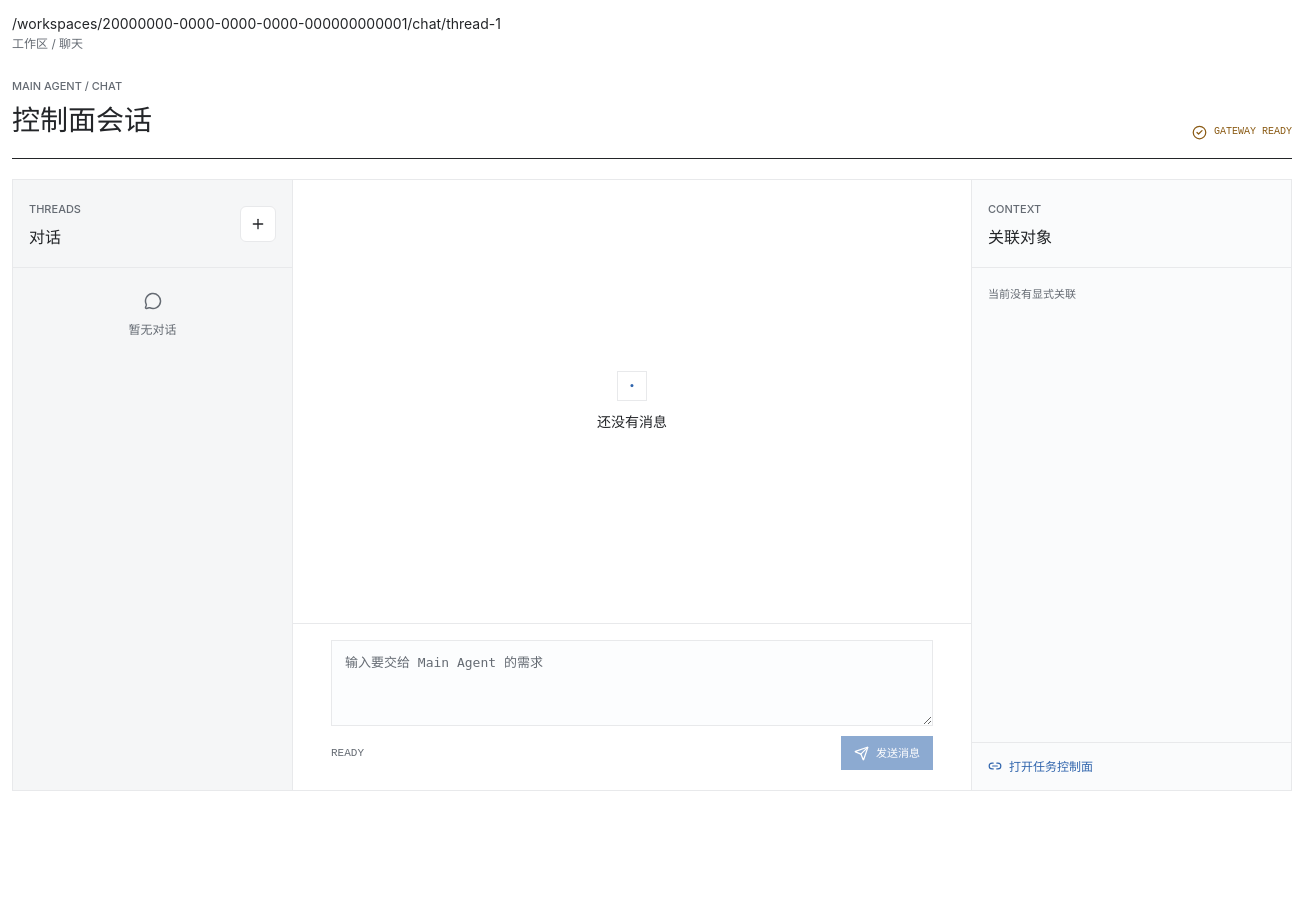
Test case: Main Agent chat workspace › reuses the same operation id after a lost start response
Type "响应丢失后继续" into the text box named "给 Main Agent 的消息" at (632, 683), box [331,640,933,726]
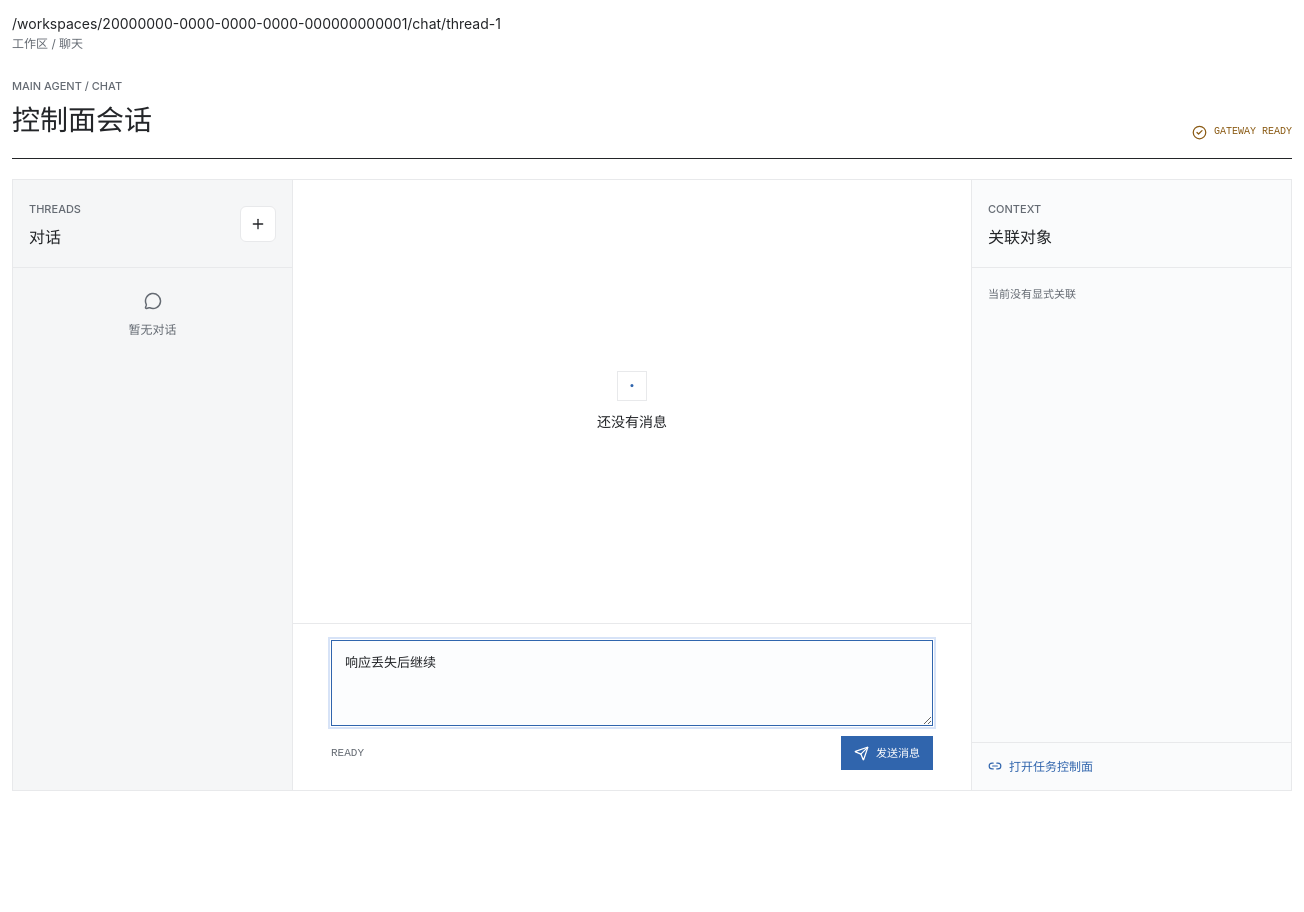
Click the button "发送消息" at (887, 753), box [841,736,933,770]
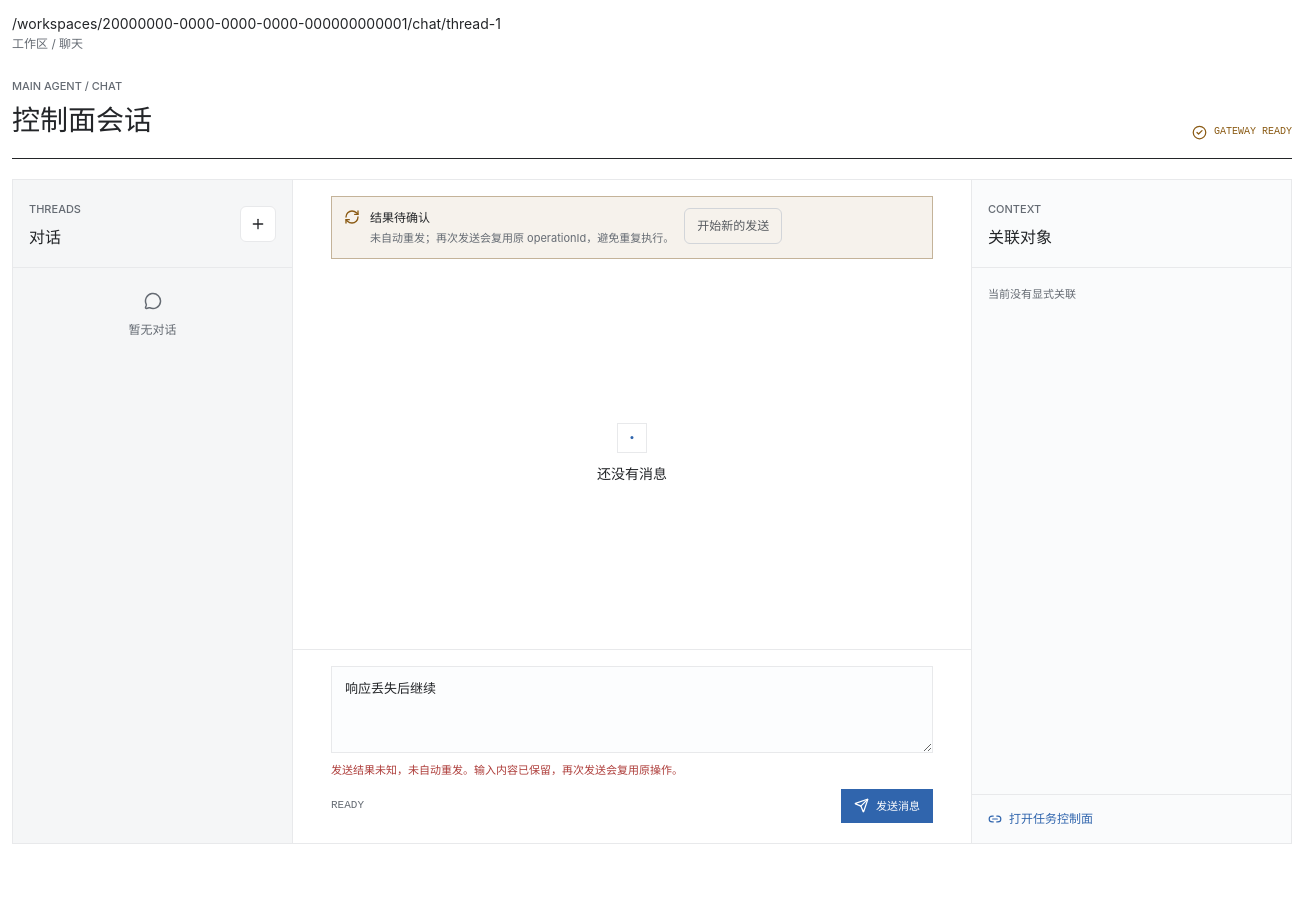
Check: the message named "发送结果恢复状态" shows "结果待确认", box [370,210,430,225]
Click the button "发送消息" at (887, 806), box [841,789,933,823]
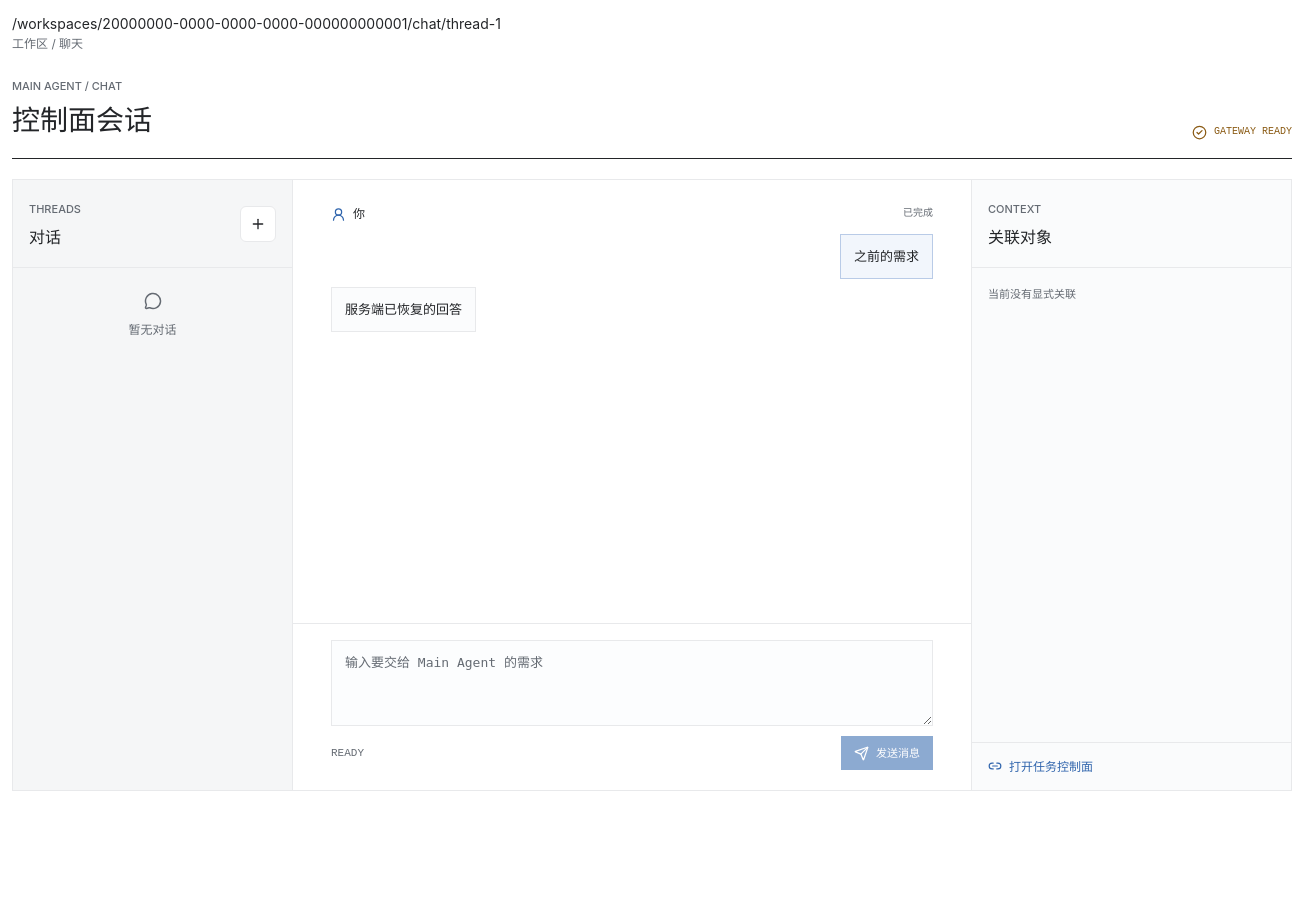
Check: the text "服务端已恢复的回答" is shown, box [331,287,476,332]
